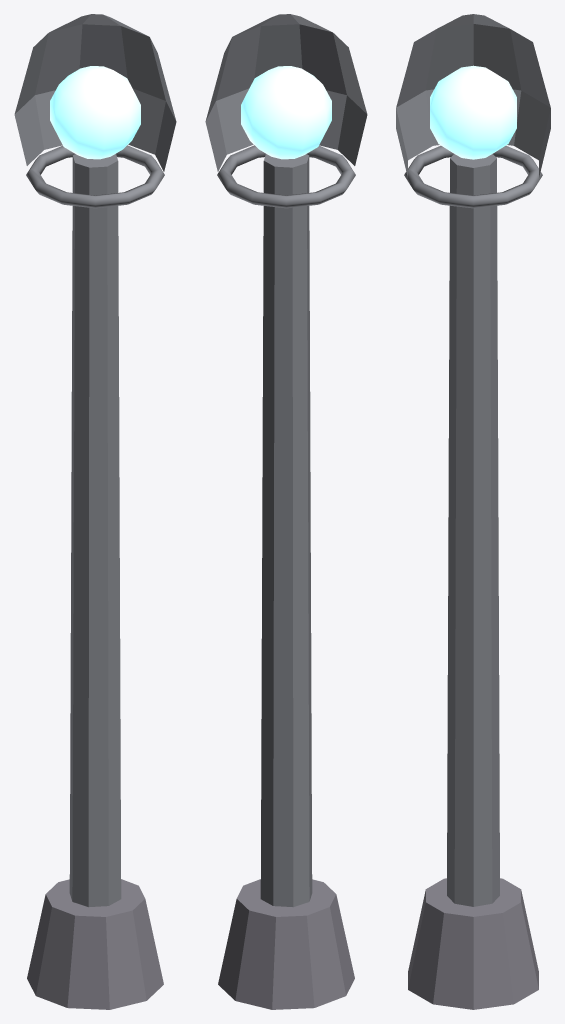
Rendered from mythic-underworld-and-olympus-soul-lantern-post-4ae94903__21353.glb.
The picture shows the model from 3 angles, left to right: view 1: azimuth 30°, elevation 25°; view 2: azimuth 150°, elevation 25°; view 3: azimuth 270°, elevation 25°; orthographic projection.
Visible parts, largest first — view 1: soul-lantern-post; view 2: soul-lantern-post; view 3: soul-lantern-post.
Boxes of the visible parts, box(x1,y1,x2,y2) form: soul-lantern-post: box(14, 14, 176, 1009); soul-lantern-post: box(205, 14, 367, 1009); soul-lantern-post: box(396, 14, 550, 1009).
Bounding box in the file's own units: 0.52 × 3.38 × 0.4944.
